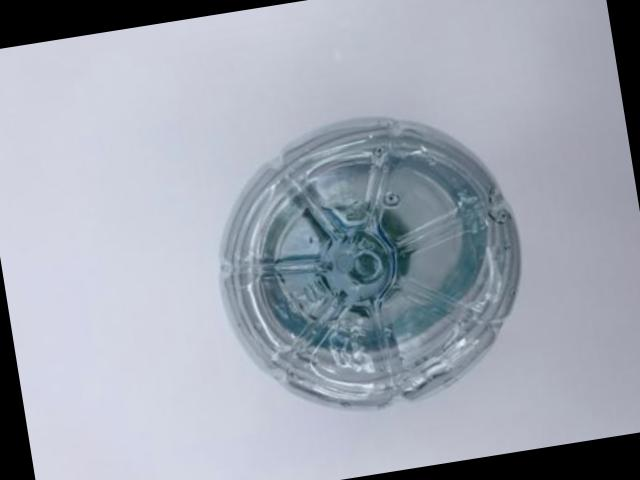plastic: (218, 121, 517, 410)
